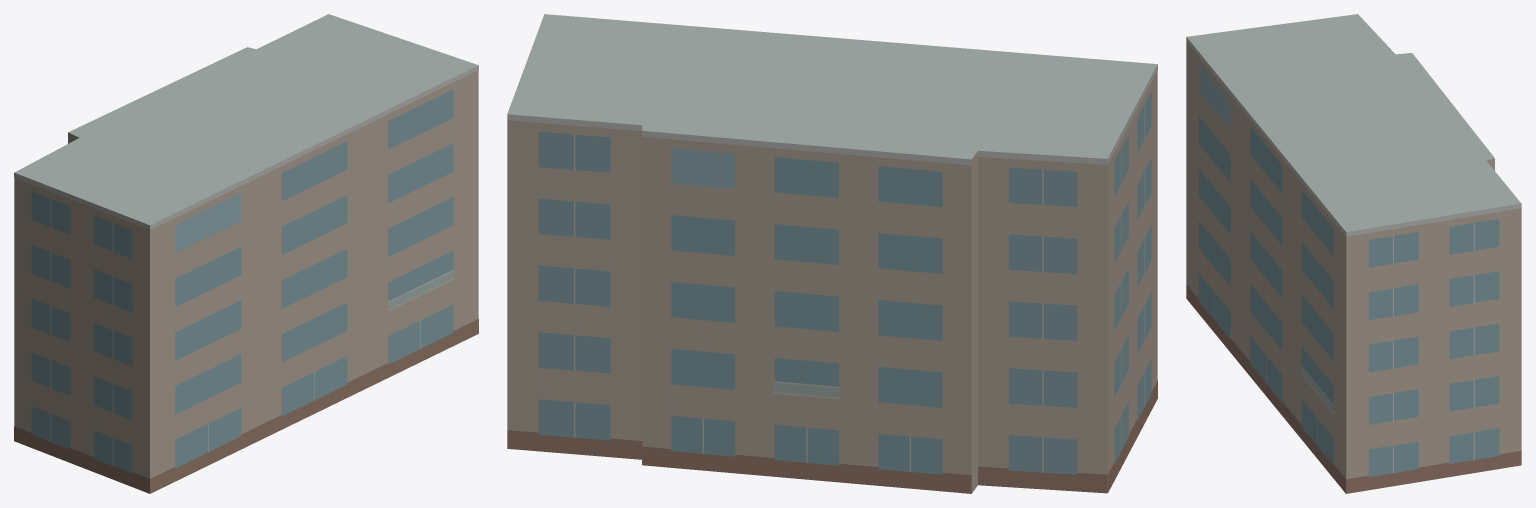
Rendered from survey-upis-32524074.glb.
3 views of the same model, side by side, from view 1: azimuth 30°, elevation 25°; view 2: azimuth 150°, elevation 25°; view 3: azimuth 270°, elevation 25° (orthographic). The views are drawn at different scales.
Visible parts, largest first — view 1: survey-upis-32524074.tmp; view 2: survey-upis-32524074.tmp; view 3: survey-upis-32524074.tmp.
Boxes of the visible parts, bbox=[...] form: survey-upis-32524074.tmp: bbox=[14, 14, 478, 493]; survey-upis-32524074.tmp: bbox=[507, 14, 1157, 493]; survey-upis-32524074.tmp: bbox=[1186, 14, 1521, 493].
Bounding box in the file's own units: 24.13 × 13.5 × 15.67.
